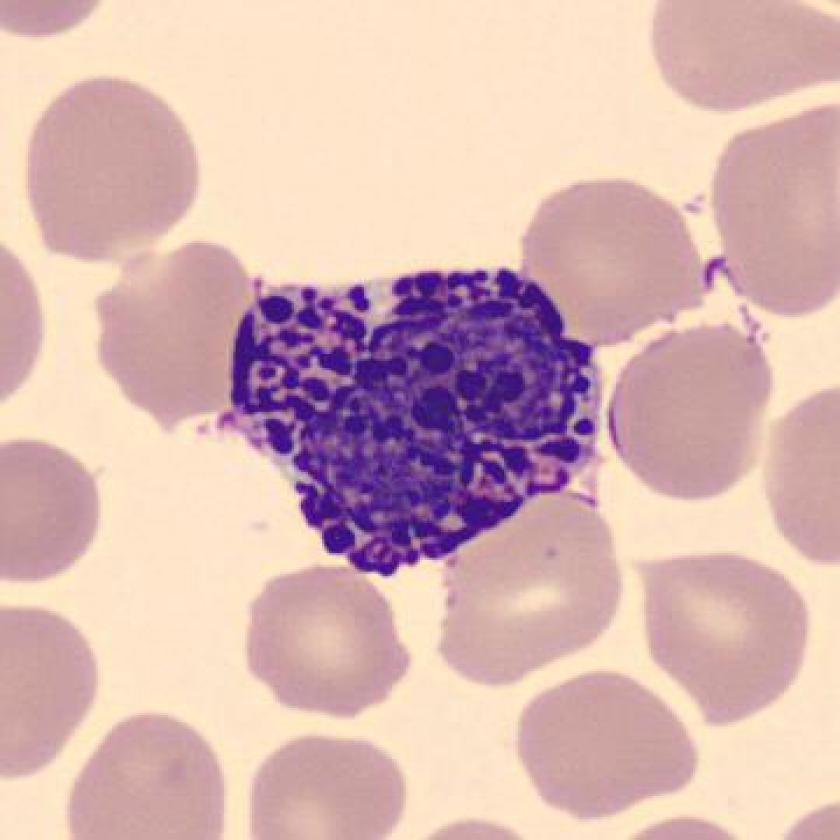basophil: (225, 267, 608, 573)
